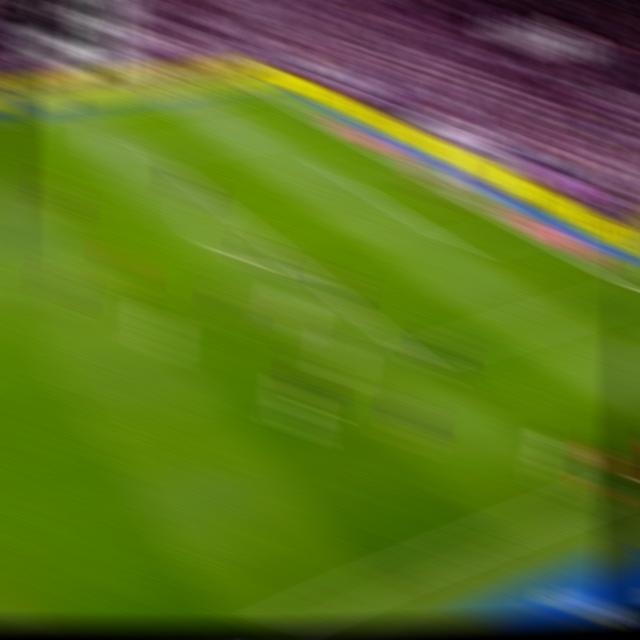bigarea_bottom_inner: (402, 340, 434, 373)
bigarea_top_inner: (140, 139, 169, 163)
bigarea_top_outter: (303, 112, 332, 131)
bottom_arc_area_intersection: (291, 257, 321, 282)
smallarea_top_inner: (318, 160, 343, 178)
top_arc_area_intersection: (202, 189, 230, 209)
